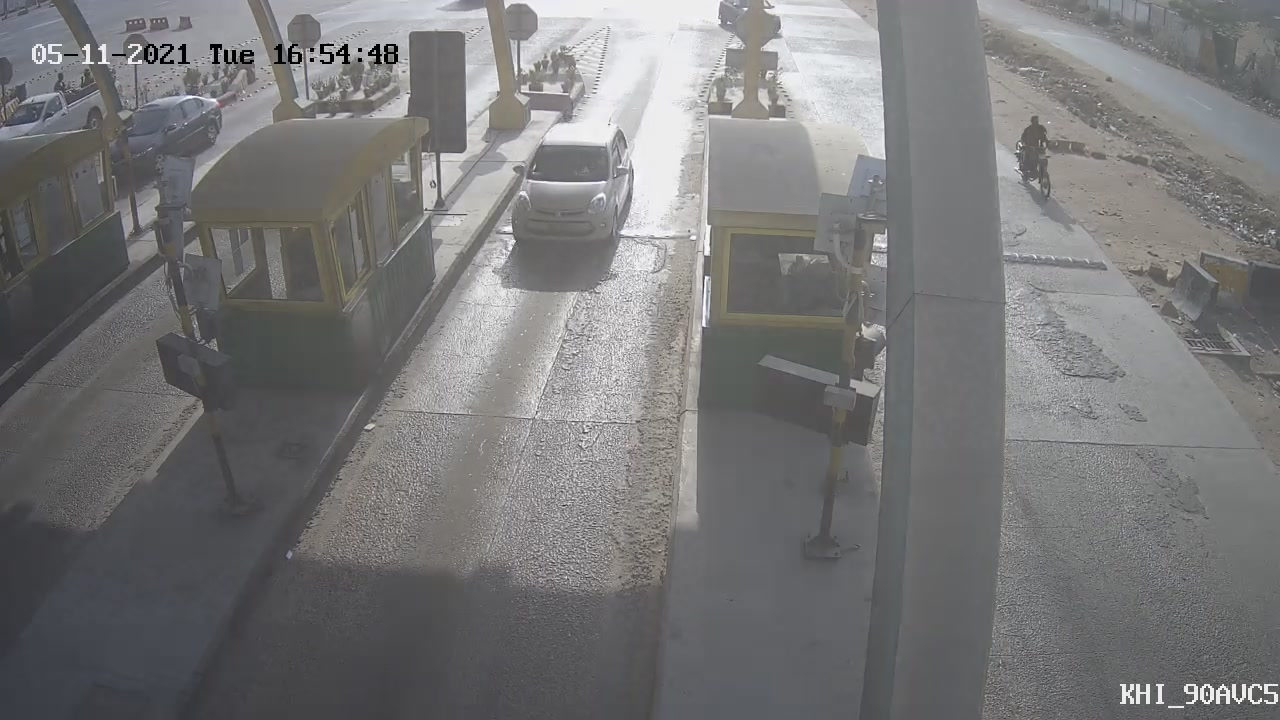F1: (489, 104, 655, 279)
